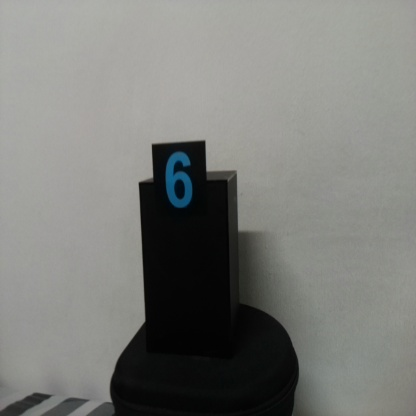id_6: (153, 138, 209, 240)
